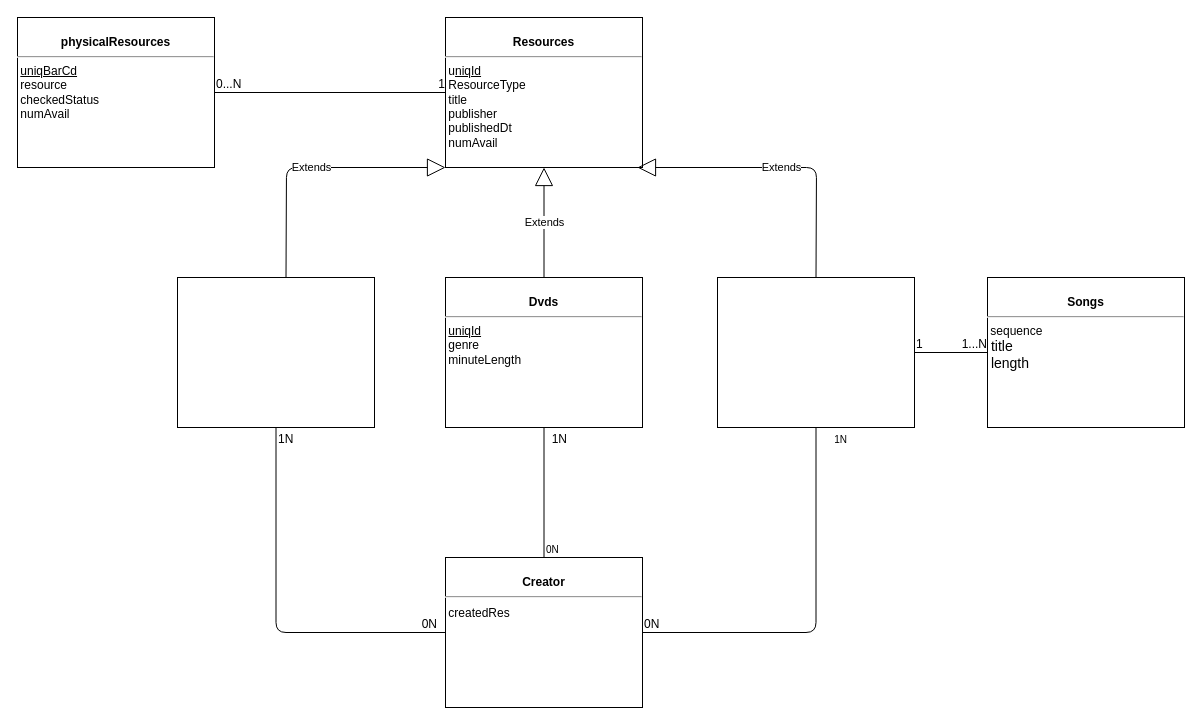
Some shapes in this 1202 by 725 pixel diagram are drawn without their labels. The centre of each missing label's shape, as x and y in pixels:
"Books u niqId ISBN bookCategory numOfPages" belongs at pixel 275 352.
"MusicCds u niqId musicCategory numOfSongs songList" belongs at pixel 815 352.
